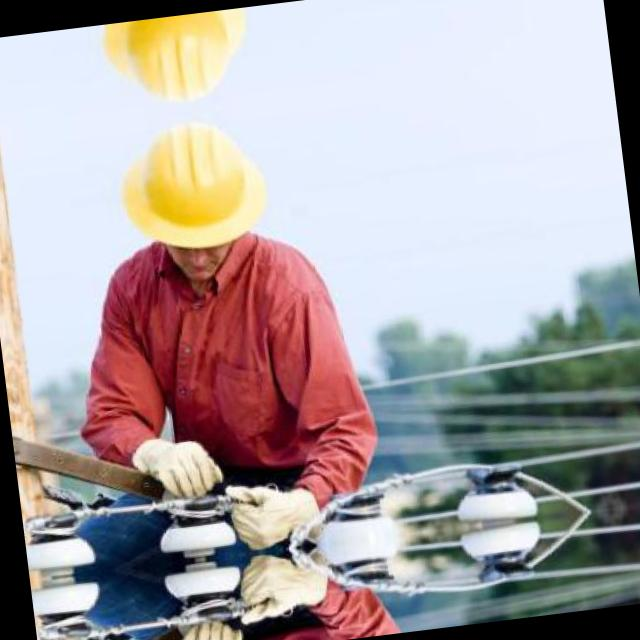helmet: (110, 111, 288, 298), (96, 6, 267, 112)
